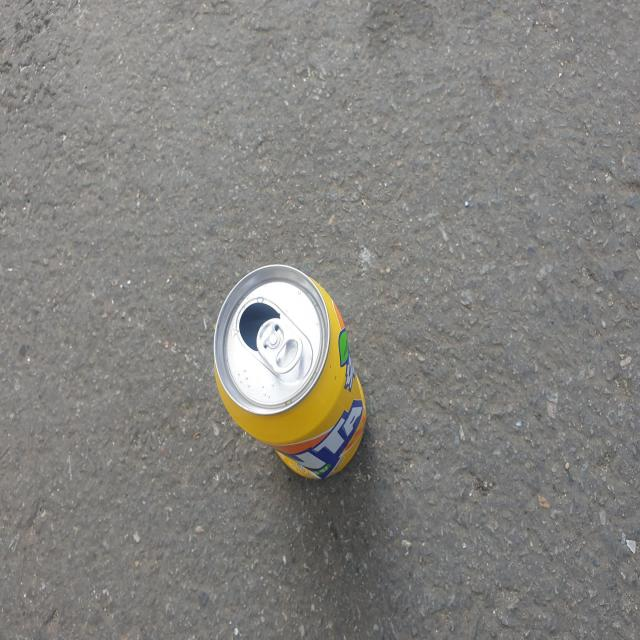can: (214, 264, 367, 479)
